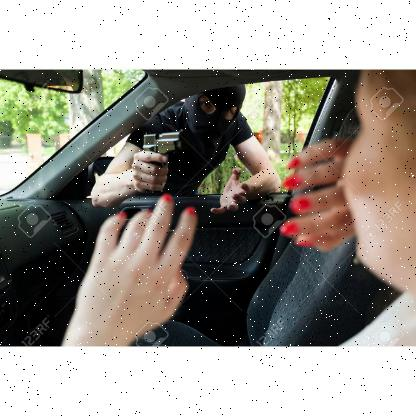gun: (138, 128, 184, 190)
